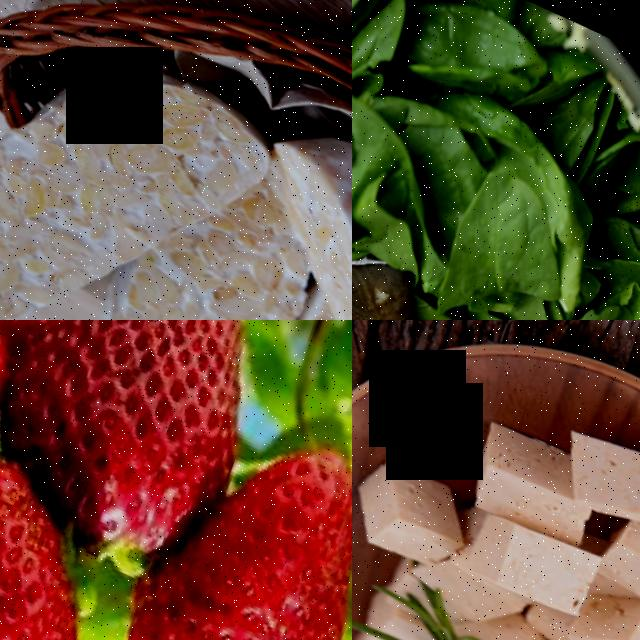spinach: (415, 138, 596, 320), (352, 45, 397, 270)
strawberry: (14, 320, 294, 558), (122, 403, 352, 640)
tempeh: (0, 0, 270, 320), (74, 180, 323, 320), (208, 108, 352, 320)
tofu: (460, 499, 601, 619), (454, 410, 583, 538), (352, 446, 472, 575), (554, 411, 640, 544), (596, 500, 640, 624), (557, 575, 640, 640), (487, 616, 586, 640)
